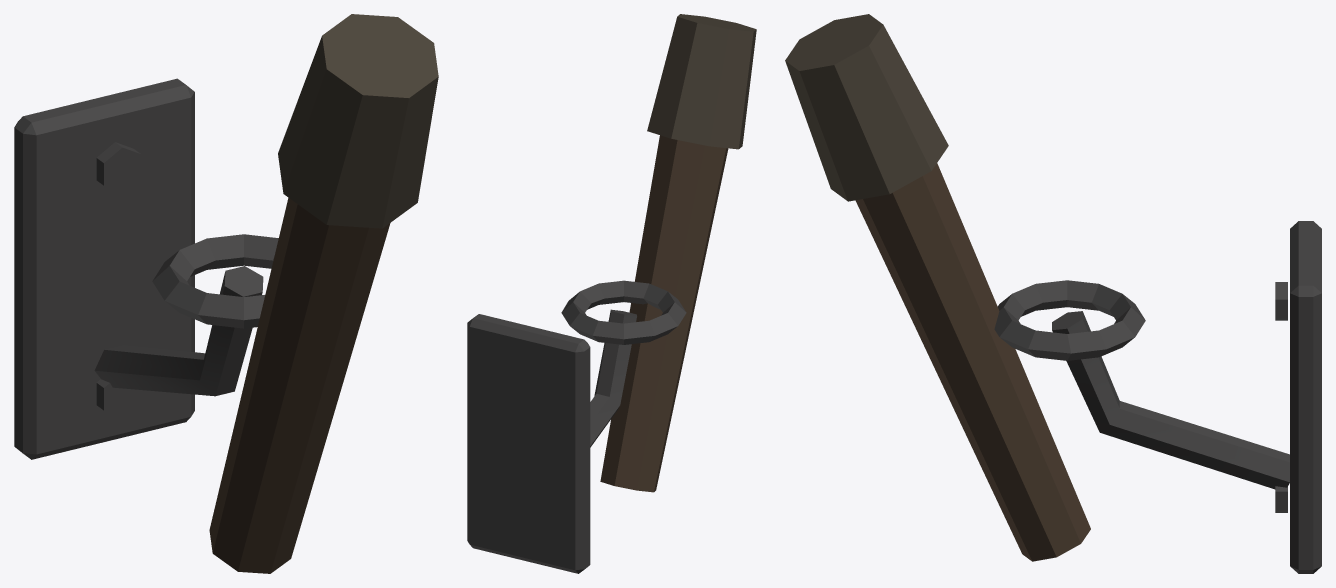
The model's file is torch_sconce.glb.
3 views of the same model, side by side, from view 1: azimuth 30°, elevation 25°; view 2: azimuth 150°, elevation 25°; view 3: azimuth 270°, elevation 25° (orthographic). The views are drawn at different scales.
Parts seen in each view (by area): view 1: torch_sconce; view 2: torch_sconce; view 3: torch_sconce.
Part boxes in pixels (x1,y1,x2,y2): torch_sconce: [14, 14, 438, 573]; torch_sconce: [467, 14, 756, 573]; torch_sconce: [785, 14, 1321, 573].
Bounding box in the file's own units: 0.16 × 0.5511 × 0.5061.
